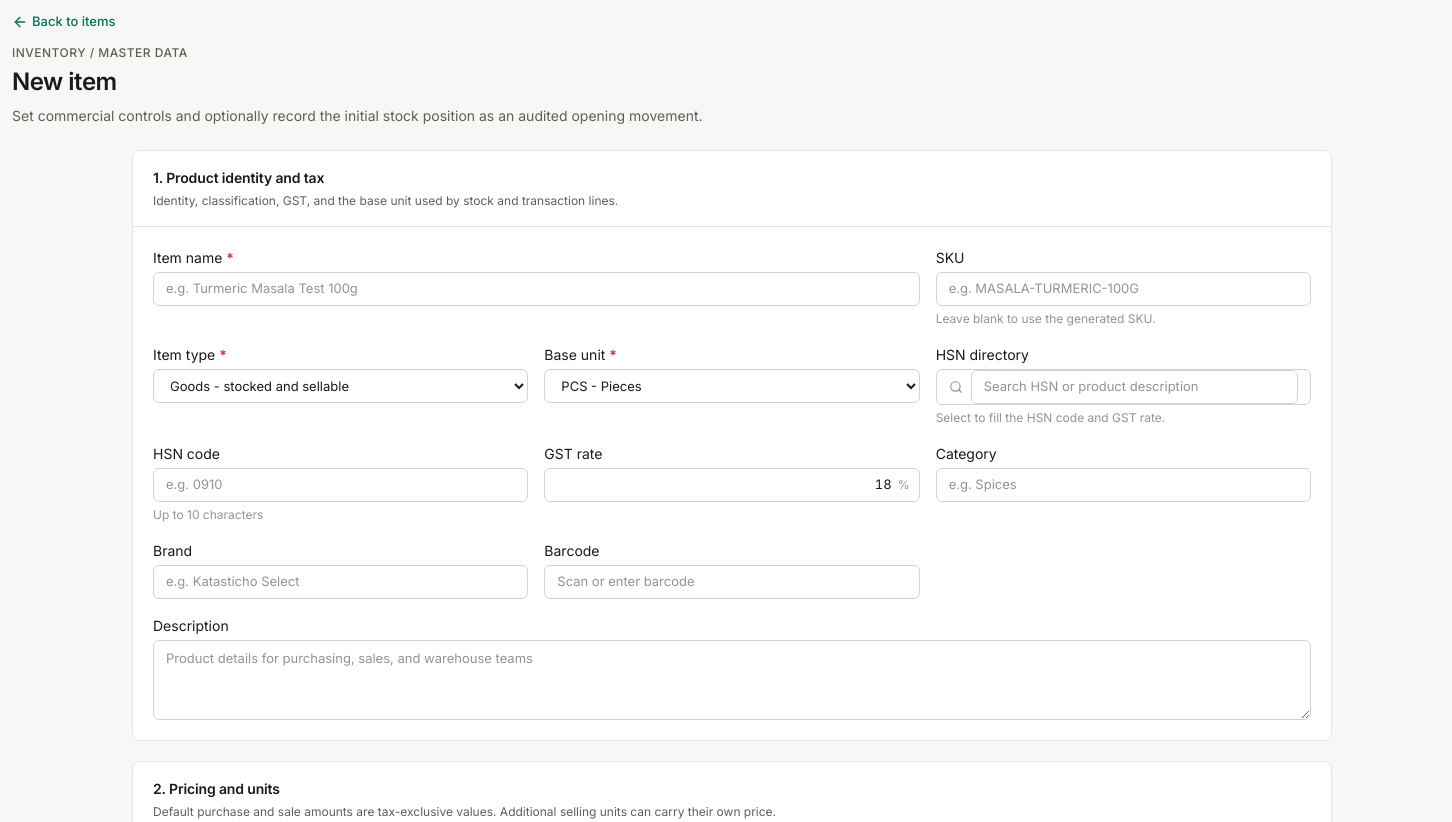
Test: ItemFormPage › selects a preloaded HSN entry and applies its GST rate
Click the dropdown named "Search HSN directory". click: (1134, 387)
box: [971,370,1298,404]
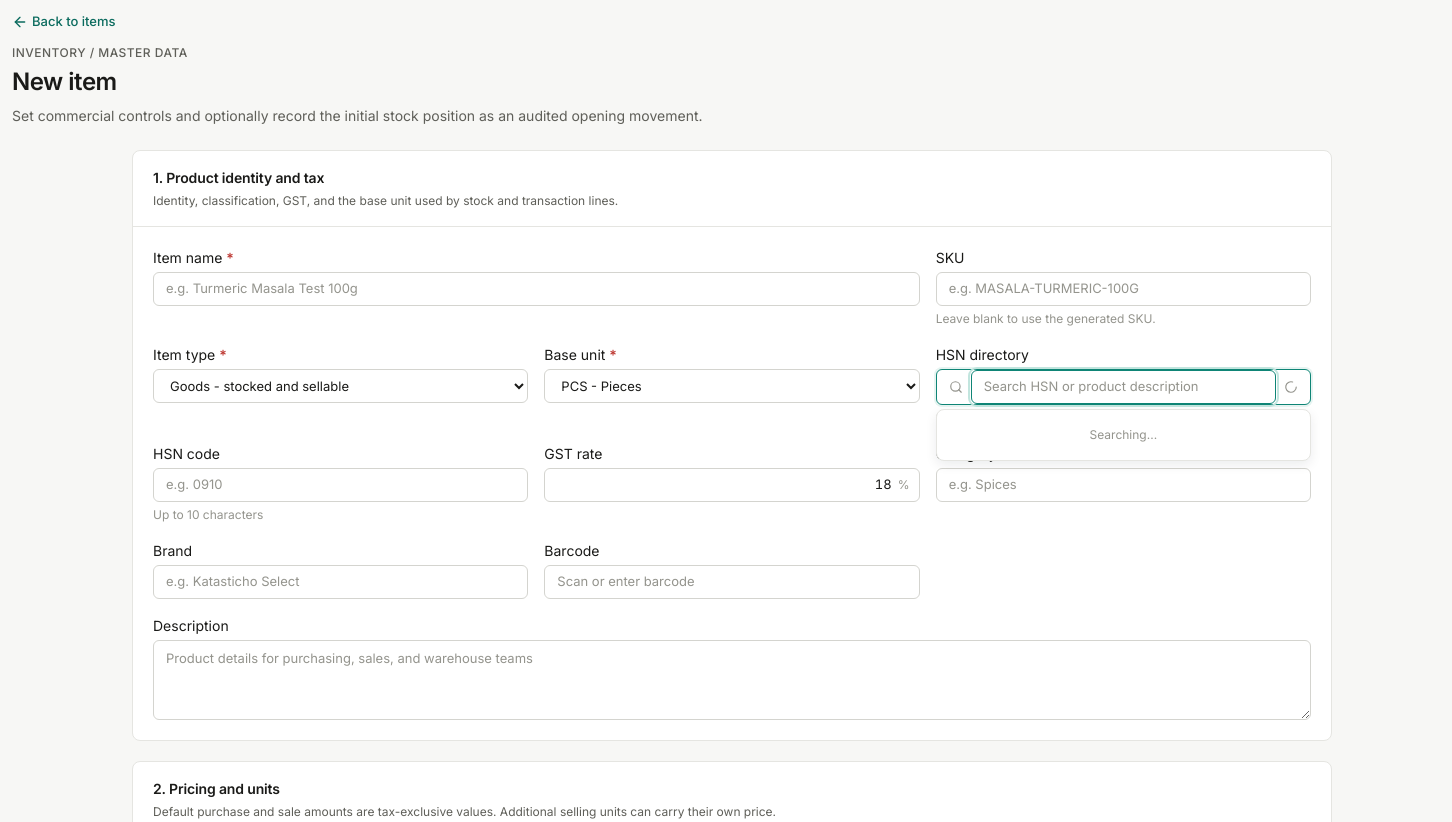
Type "spice" into the dropdown named "Search HSN directory". click: (1123, 387)
box: [971,370,1276,404]
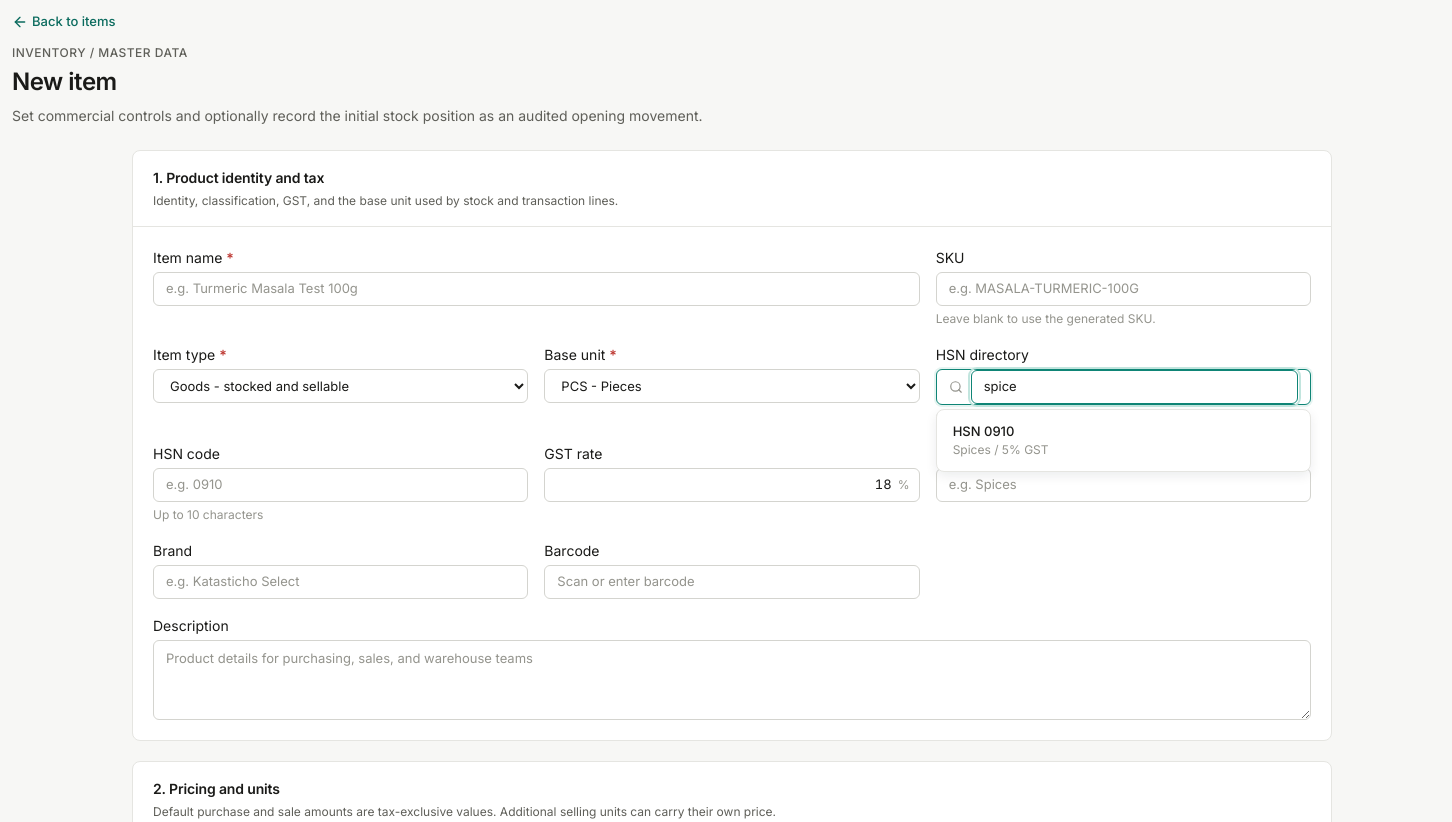
Click the option "HSN 0910 Spices / 5% GST". click: (1001, 440)
box: [953,423,1048,457]
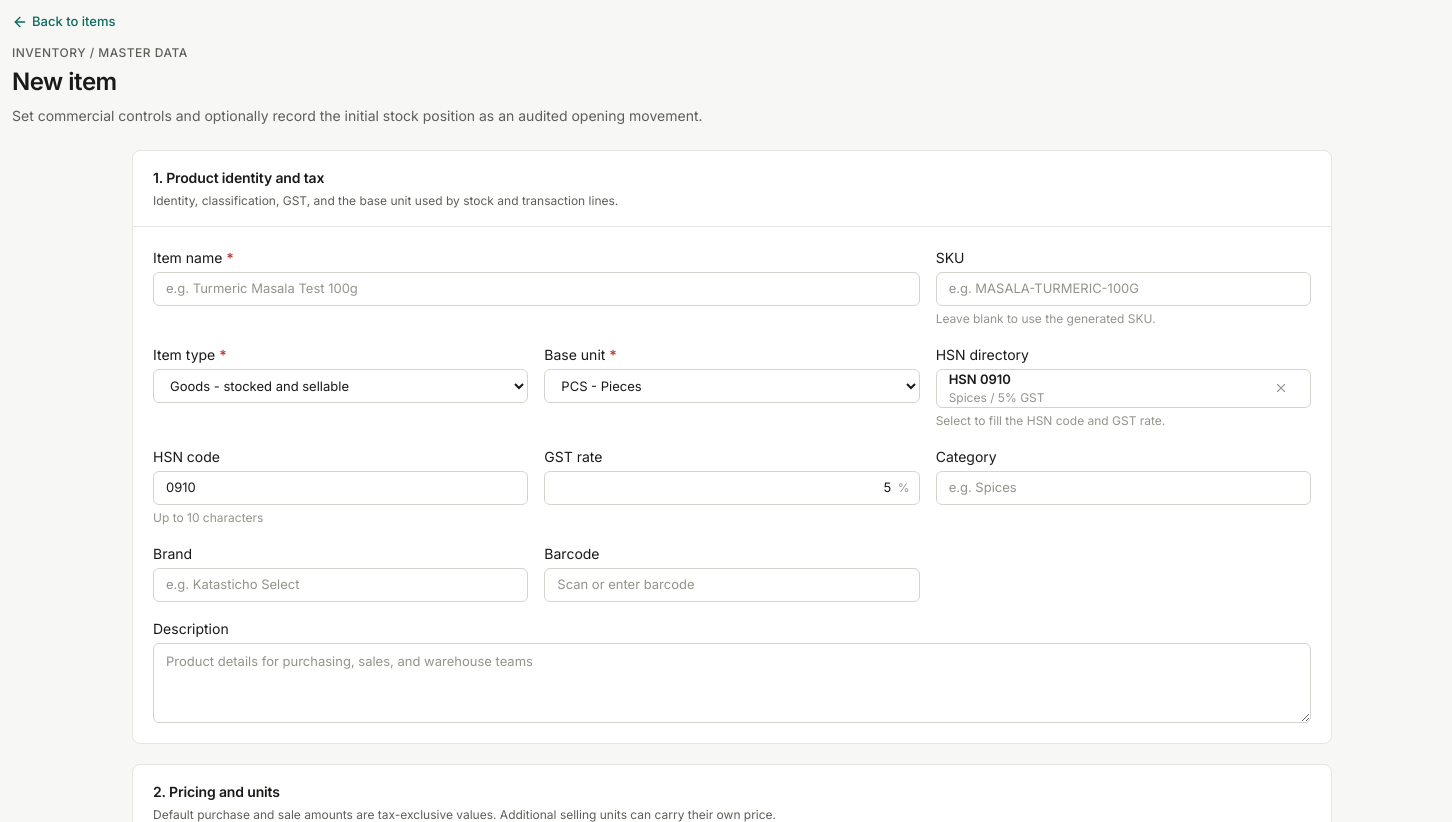
Check: the field labelled "HSN code" holds "0910", box [153,471,528,505]
Check: the number field labelled "GST rate" holds "5", box [544,471,920,505]
